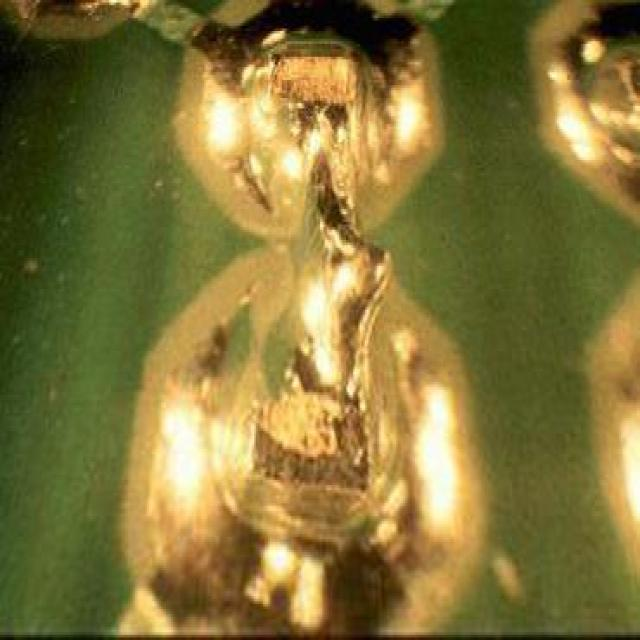Short_circuit: (218, 13, 397, 506)
